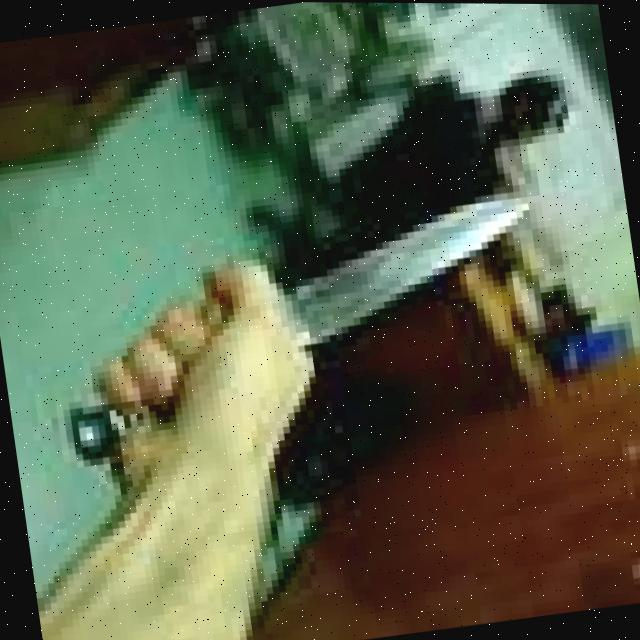knife: (288, 192, 540, 340)
